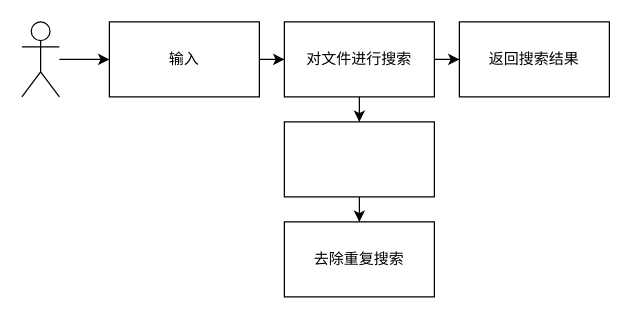
This 631x319 diagram has some shape labels left out. Here are the shapes that lost their labels. From the top down, the box of each, then its label:
(21, 21, 59, 97): 用户
(283, 121, 434, 197): 并发
